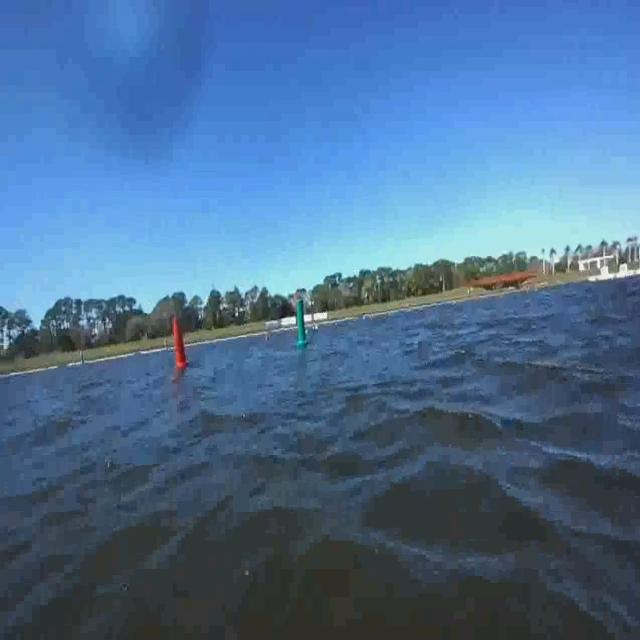green-column-buoy: (294, 301, 308, 348)
red-column-buoy: (172, 318, 190, 370)
